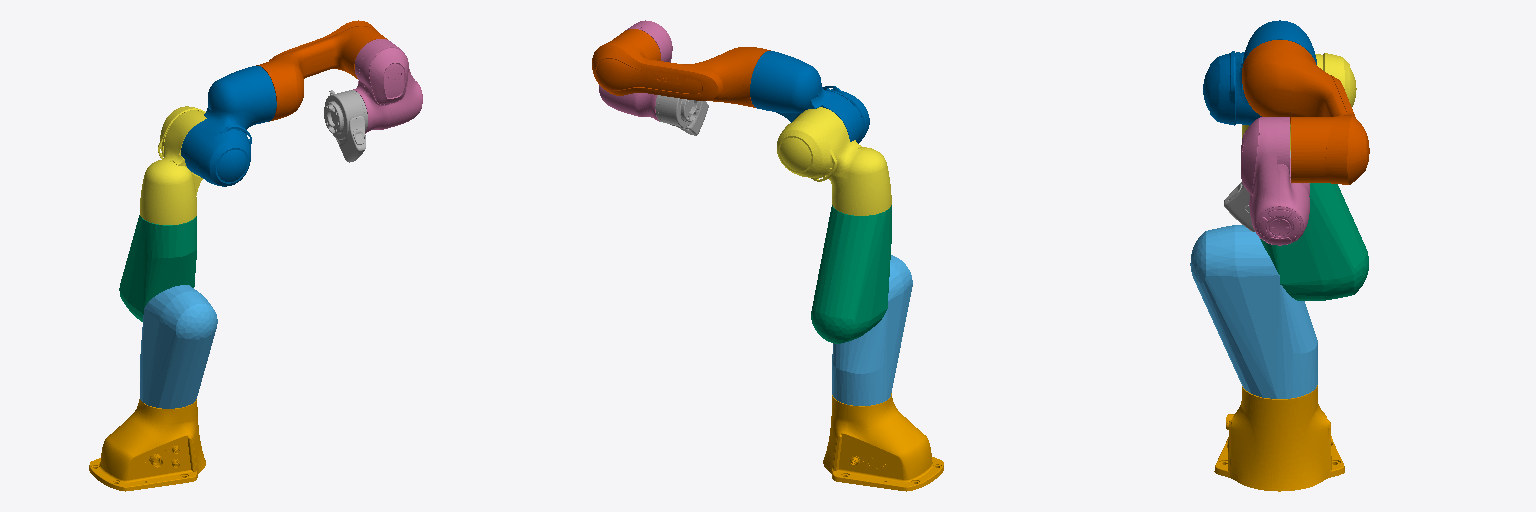
robot.urdf — panda:
<?xml version='1.0' encoding='utf-8'?>
<robot name="panda">

    <link name="link0">
      <inertial>
        <origin xyz="0 0 0.05" rpy="0 0 0" />
        <mass value="4" />
        <inertia ixx="0.4" iyy="0.4" izz="0.4" ixy="0" ixz="0" iyz="0" />
      </inertial>
      <visual>
        <geometry>
          <mesh filename="meshes/visual/link0.stl"/>
        </geometry>
      </visual>
<!--       <collision>
        <geometry>
          <mesh filename="meshes/collision/link0.stl"/>
        </geometry>
      </collision> -->
    </link>
    <link name="link1">
      <inertial>
        <origin xyz="0 0 -0.07" rpy="0 -0 0" />
        <mass value="4" />
        <inertia ixx="0.3" iyy="0.3" izz="0.3" ixy="0" ixz="0" iyz="0" />
      </inertial>
      <visual>
        <geometry>
          <mesh filename="meshes/visual/link1.stl"/>
        </geometry>
      </visual>
      <!-- <collision>
        <geometry>
          <mesh filename="meshes/collision/link1.stl"/>
        </geometry>
      </collision> -->
    </link>
    <link name="link2">
      <inertial>
        <origin xyz="0 -0.1 0" rpy="0 -0 0" />
        <mass value="3" />
        <inertia ixx="0.3" iyy="0.3" izz="0.3" ixy="0" ixz="0" iyz="0" />
      </inertial>
      <visual>
        <geometry>
          <mesh filename="meshes/visual/link2.stl"/>
        </geometry>
      </visual>
      <!-- <collision>
        <geometry>
          <mesh filename="meshes/collision/link2.stl"/>
        </geometry>
      </collision> -->
    </link>
    <link name="link3">
      <inertial>
        <origin xyz="0.04 0 -0.05" rpy="0 -0 0" />
        <mass value="3" />
        <inertia ixx="0.2" iyy="0.2" izz="0.2" ixy="0" ixz="0" iyz="0" />
      </inertial>
      <visual>
        <geometry>
          <mesh filename="meshes/visual/link3.stl"/>
        </geometry>
      </visual>
      <!-- <collision>
        <geometry>
          <mesh filename="meshes/collision/link3.stl"/>
        </geometry>
      </collision> -->
    </link>
    <link name="link4">
      <inertial>
        <origin xyz="-0.04 0.05 0" rpy="0 -0 0" />
        <mass value="3" />
        <inertia ixx="0.2" iyy="0.2" izz="0.2" ixy="0" ixz="0" iyz="0" />
      </inertial>
      <visual>
        <geometry>
          <mesh filename="meshes/visual/link4.stl"/>
        </geometry>
      </visual>
<!--       <collision>
        <geometry>
          <mesh filename="meshes/collision/link4.stl"/>
        </geometry>
      </collision> -->
    </link>
    <link name="link5">
      <inertial>
        <origin xyz="0 0 -0.15" rpy="0 -0 0" />
        <mass value="3" />
        <inertia ixx="0.2" iyy="0.2" izz="0.2" ixy="0" ixz="0" iyz="0" />
      </inertial>
      <visual>
        <geometry>
          <mesh filename="meshes/visual/link5.stl"/>
        </geometry>
      </visual>
<!--       <collision>
        <geometry>
          <mesh filename="meshes/collision/link5.stl"/>
        </geometry>
      </collision> -->
    </link>
    <link name="link6">
      <inertial>
        <origin xyz="0.06 0 0" rpy="0 -0 0" />
        <mass value="2" />
        <inertia ixx="0.1" iyy="0.1" izz="0.1" ixy="0" ixz="0" iyz="0" />
      </inertial>
      <visual>
        <geometry>
          <mesh filename="meshes/visual/link6.stl"/>
        </geometry>
      </visual>
      <!-- <collision>
        <geometry>
          <mesh filename="meshes/collision/link6.stl"/>
        </geometry>
      </collision> -->
    </link>
    <link name="link7">
      <inertial>
        <origin xyz="0 0 0.17" rpy="0 -0 0" />
        <mass value="0.5" />
        <inertia ixx="0.09" iyy="0.05" izz="0.07" ixy="0" ixz="0" iyz="0" />
      </inertial>
      <visual>
        <geometry>
          <mesh filename="meshes/visual/link7.stl"/>
        </geometry>
      </visual>
      <!-- <collision>
        <geometry>
          <mesh filename="meshes/collision/link7.stl"/>
        </geometry>
      </collision> -->
    </link>
    <joint name="joint1" type="revolute">
      <safety_controller k_position="100.0" k_velocity="40.0" soft_lower_limit="-2.8973" soft_upper_limit="2.8973"/>
      <origin rpy="0 0 0" xyz="0 0 0.333"/>
      <parent link="link0"/>
      <child link="link1"/>
      <axis xyz="0 0 1"/>
      <calibration falling="-80.0" />
      <limit effort="87" lower="-2.8973" upper="2.8973" velocity="2.1750"/>
    </joint>
    <joint name="joint2" type="revolute">
      <safety_controller k_position="100.0" k_velocity="40.0" soft_lower_limit="-1.7628" soft_upper_limit="1.7628"/>
      <origin rpy="-1.57079632679 0 0" xyz="0 0 0"/>
      <parent link="link1"/>
      <child link="link2"/>
      <axis xyz="0 0 1"/>
      <calibration falling="-45.0" />
      <limit effort="87" lower="-1.7628" upper="1.7628" velocity="2.1750"/>
    </joint>
    <joint name="joint3" type="revolute">
      <safety_controller k_position="100.0" k_velocity="40.0" soft_lower_limit="-2.8973" soft_upper_limit="2.8973"/>
      <origin rpy="1.57079632679 0 0" xyz="0 -0.316 0"/>
      <parent link="link2"/>
      <child link="link3"/>
      <axis xyz="0 0 1"/>
      <limit effort="87" lower="-2.8973" upper="2.8973" velocity="2.1750"/>
    </joint>
    <joint name="joint4" type="revolute">
      <safety_controller k_position="100.0" k_velocity="40.0" soft_lower_limit="-3.0718" soft_upper_limit="-0.0698"/>
      <origin rpy="1.57079632679 0 0" xyz="0.0825 0 0"/>
      <parent link="link3"/>
      <child link="link4"/>
      <axis xyz="0 0 1"/>
      <calibration falling="-125.0" />
      <limit effort="87" lower="-3.0718" upper="-0.0698" velocity="2.1750"/>
    </joint>
    <joint name="joint5" type="revolute">
      <safety_controller k_position="100.0" k_velocity="40.0" soft_lower_limit="-2.8973" soft_upper_limit="2.8973"/>
      <origin rpy="-1.57079632679 0 0" xyz="-0.0825 0.384 0"/>
      <parent link="link4"/>
      <child link="link5"/>
      <axis xyz="0 0 1"/>
      <limit effort="12" lower="-2.8973" upper="2.8973" velocity="2.6100"/>
    </joint>
    <joint name="joint6" type="revolute">
      <safety_controller k_position="100.0" k_velocity="40.0" soft_lower_limit="-0.0175" soft_upper_limit="3.7525"/>
      <origin rpy="1.57079632679 0 0" xyz="0 0 0"/>
      <parent link="link5"/>
      <child link="link6"/>
      <axis xyz="0 0 1"/>
      <calibration falling="80.0" />
      <limit effort="12" lower="-0.0175" upper="3.7525" velocity="2.6100"/>
    </joint>
    <joint name="joint7" type="revolute">
      <safety_controller k_position="100.0" k_velocity="40.0" soft_lower_limit="-2.8973" soft_upper_limit="2.8973"/>
      <origin rpy="1.57079632679 0 0" xyz="0.088 0 0"/>
      <parent link="link6"/>
      <child link="link7"/>
      <axis xyz="0 0 1"/>
      <limit effort="12" lower="-2.8973" upper="2.8973" velocity="2.6100"/>
    </joint>
</robot>

--- Facts derived from the render (not from the file) ---
The picture shows the robot from 3 angles, left to right: view 1: azimuth 30°, elevation 25°; view 2: azimuth 150°, elevation 25°; view 3: azimuth 270°, elevation 25°; orthographic projection.
Model panda with 8 links and 7 joints (7 revolute), rooted at link0, posed joints at zero except 1 at the middle of their limits (joint4 = -1.57).
Visible links, largest first — view 1: link1, link0, link4, link2, link3, link5, link6, link7; view 2: link2, link0, link5, link3, link1, link4, link6, link7; view 3: link1, link5, link0, link2, link6, link4, link3, link7.
Link boxes in pixels (x1=…): link1: x1=140, y1=285, x2=217, y2=408; link0: x1=89, y1=399, x2=205, y2=491; link4: x1=181, y1=66, x2=276, y2=186; link2: x1=119, y1=215, x2=196, y2=321; link3: x1=140, y1=106, x2=206, y2=224; link5: x1=256, y1=20, x2=387, y2=121; link6: x1=353, y1=39, x2=422, y2=133; link7: x1=324, y1=90, x2=367, y2=162; link2: x1=811, y1=205, x2=891, y2=343; link0: x1=823, y1=393, x2=943, y2=491; link5: x1=592, y1=29, x2=770, y2=107; link3: x1=777, y1=107, x2=891, y2=215; link1: x1=832, y1=255, x2=912, y2=405; link4: x1=750, y1=51, x2=869, y2=143; link6: x1=599, y1=20, x2=672, y2=121; link7: x1=655, y1=95, x2=708, y2=135; link1: x1=1190, y1=225, x2=1317, y2=398; link5: x1=1242, y1=40, x2=1369, y2=184; link0: x1=1214, y1=385, x2=1344, y2=491; link2: x1=1260, y1=183, x2=1368, y2=300; link6: x1=1241, y1=117, x2=1309, y2=245; link4: x1=1203, y1=20, x2=1316, y2=125; link3: x1=1242, y1=53, x2=1356, y2=150; link7: x1=1224, y1=151, x2=1309, y2=231.
Bounding box of the posed robot: 0.7022 × 0.2593 × 0.7865 m (x, y, z).
Meshes: 8 distinct files referenced, 8 mesh visuals loaded (8 binary STL).
